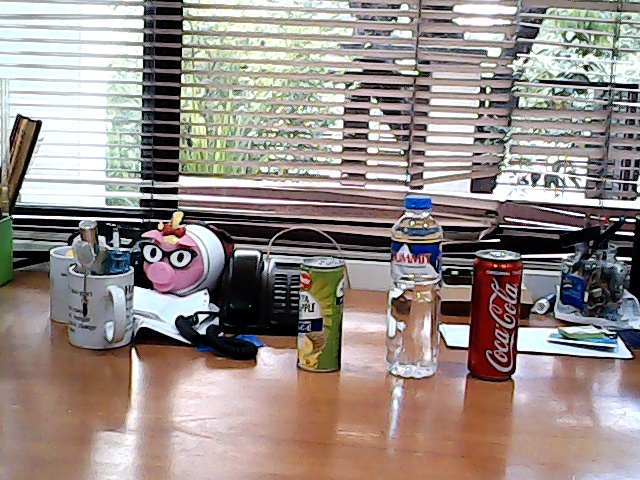Cola: (460, 236, 537, 387)
Pine Juice: (288, 245, 355, 381)
Summit Water: (378, 192, 454, 383)
